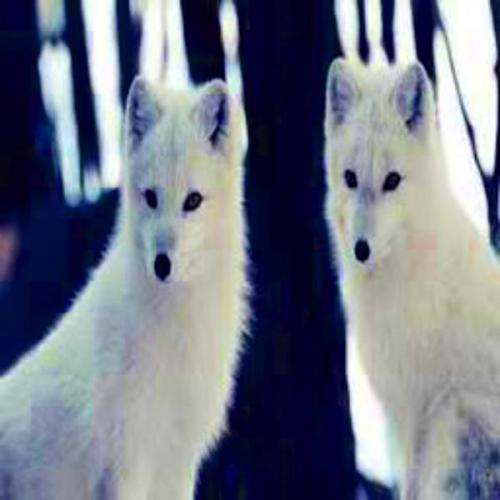arctic_fox-endangered: (10, 88, 252, 496), (325, 66, 500, 500)
